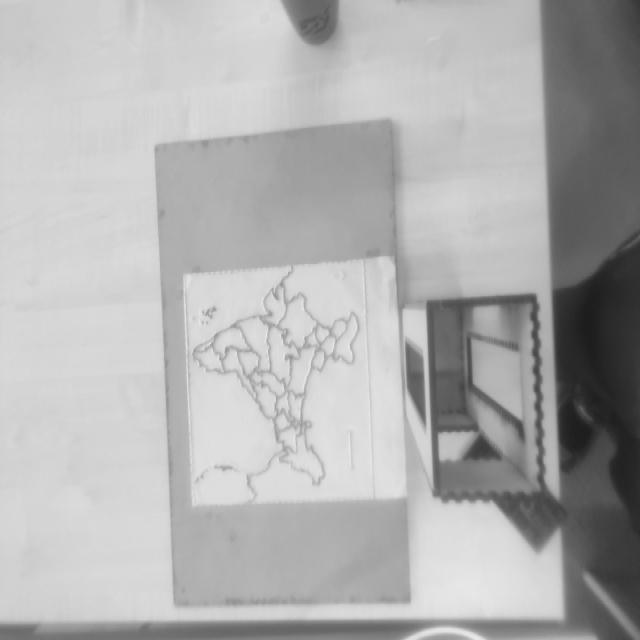map: (182, 260, 375, 506)
